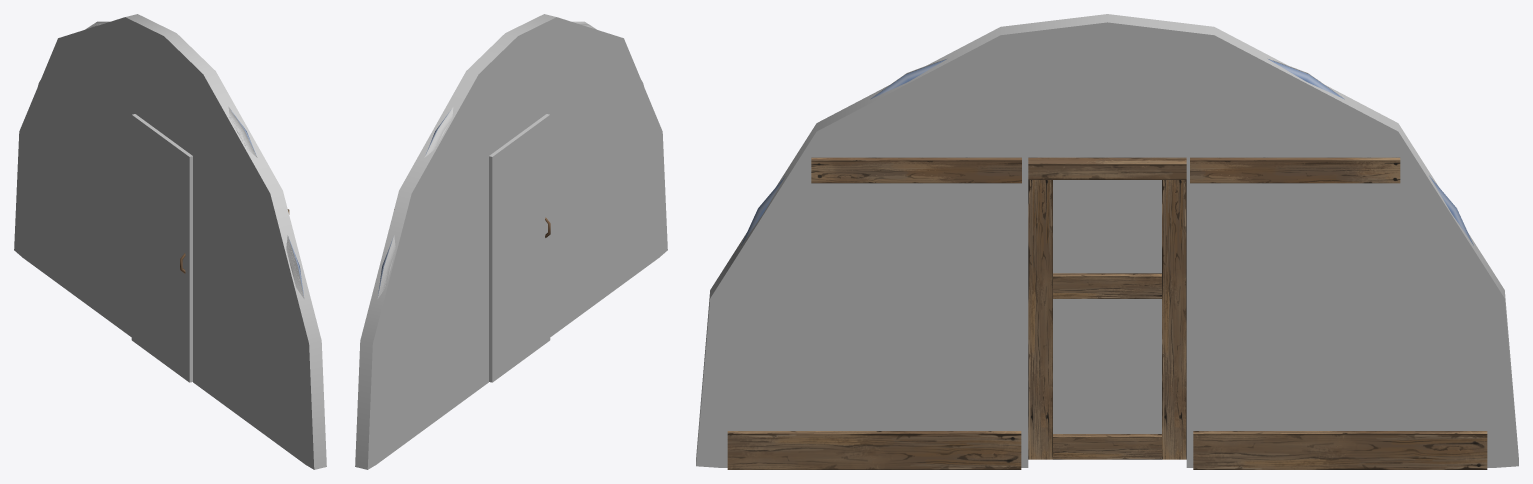
The model's file is greenHouse_front01.FBX.
3 renders of one model, left to right at view 1: azimuth 30°, elevation 25°; view 2: azimuth 150°, elevation 25°; view 3: azimuth 270°, elevation 25°, orthographic. The views are drawn at different scales.
Visible parts, largest first — view 1: greenHouse_front01_COL, greenHouse_front01_door, greenHouse_front01; view 2: greenHouse_front01_COL, greenHouse_front01_door, greenHouse_front01; view 3: greenHouse_front01_COL, greenHouse_front01_door, greenHouse_front01.
Part boxes in pixels (x1,y1,x2,y2): greenHouse_front01_COL: (14, 14, 326, 469); greenHouse_front01_door: (131, 114, 192, 382); greenHouse_front01: (38, 21, 304, 298); greenHouse_front01_COL: (355, 14, 667, 469); greenHouse_front01_door: (489, 114, 550, 382); greenHouse_front01: (377, 21, 643, 298); greenHouse_front01_COL: (696, 14, 1518, 467); greenHouse_front01_door: (1028, 180, 1186, 459); greenHouse_front01: (727, 59, 1487, 469).
Size of the model in its own units: 25.63 by 311 by 520.
